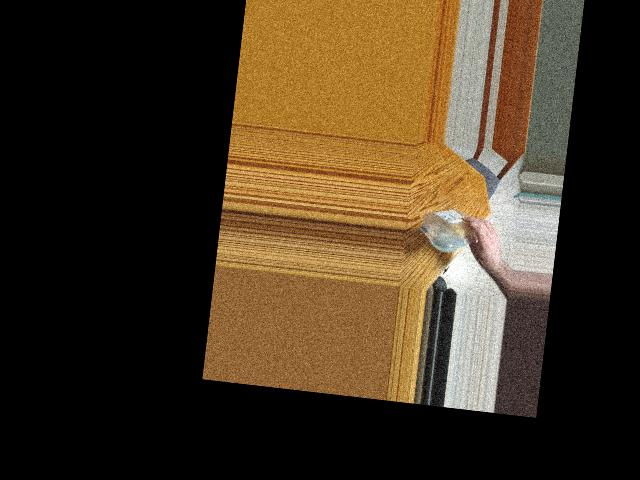cheese: (422, 208, 489, 250)
